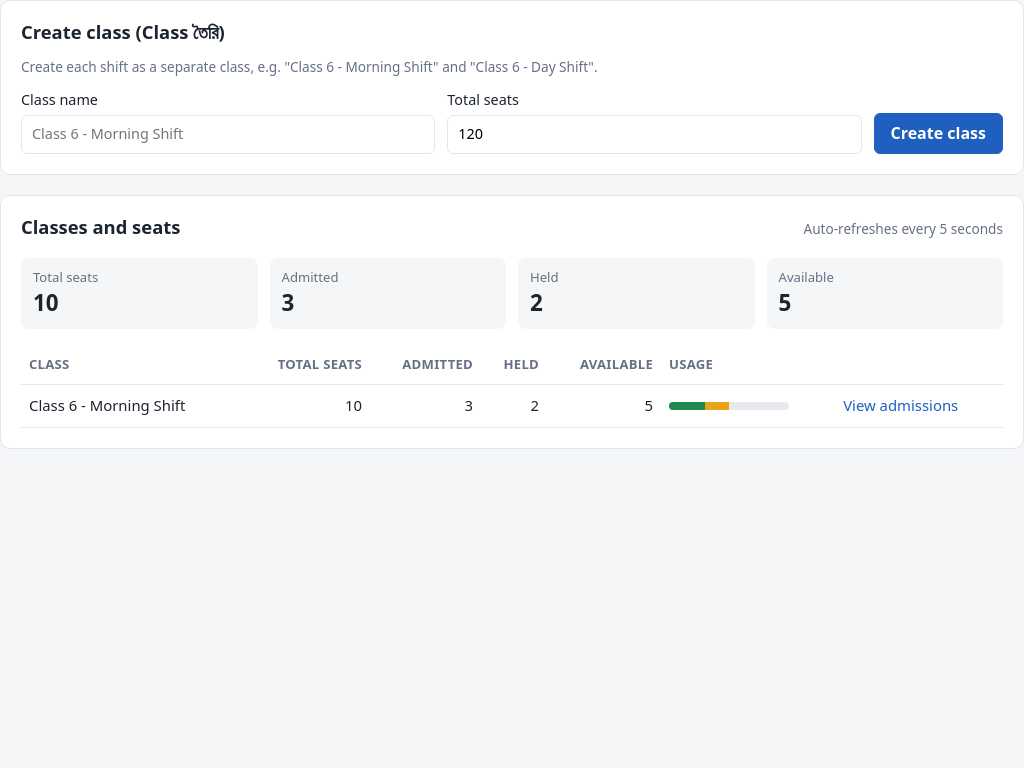
Scenario: AdminPage › lists admissions for a selected class
This screenshot has width=1024, height=768.
Click the button "View admissions".
click(901, 406)  # box top-left (843, 395), bottom-right (958, 417)
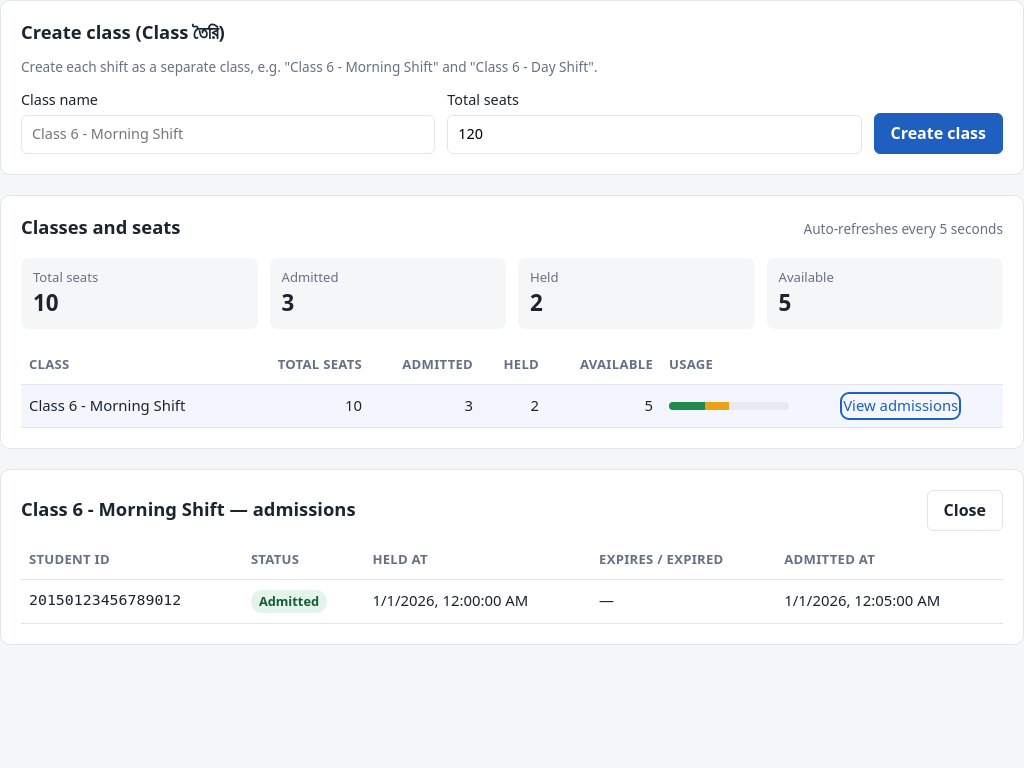
Now the text "Admitted" next to "20150123456789012" is shown, box top-left (259, 592), bottom-right (319, 610)
Now the text "20150123456789012" is shown, box top-left (21, 580), bottom-right (243, 623)
